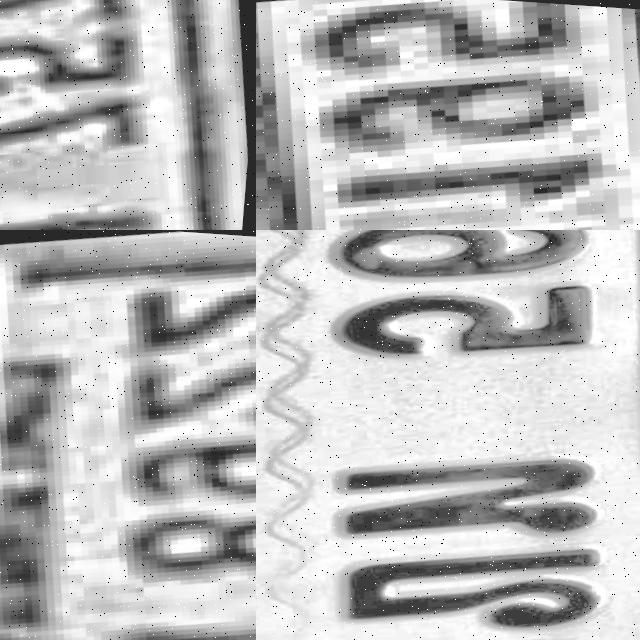license-plate: (256, 230, 640, 640), (0, 230, 256, 640), (256, 0, 640, 230), (0, 0, 256, 230)
